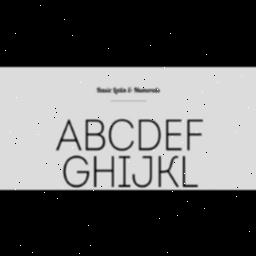h: (60, 152, 90, 190), (90, 153, 118, 189), (114, 152, 136, 190)
